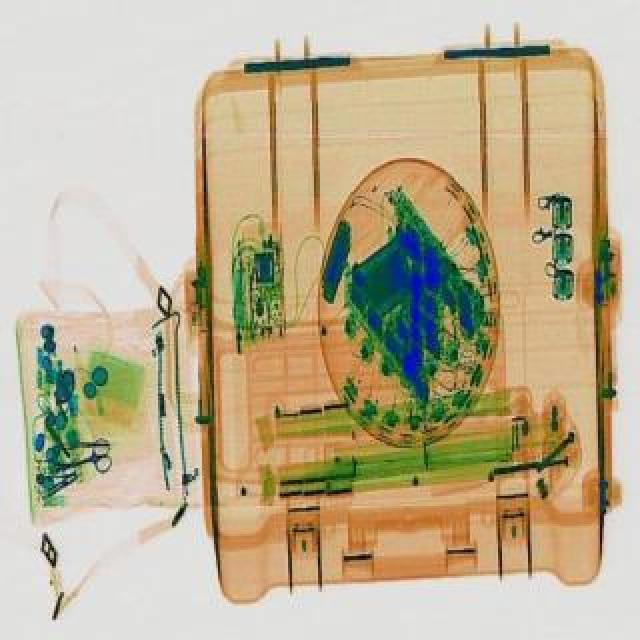pliers: (46, 434, 118, 484)
